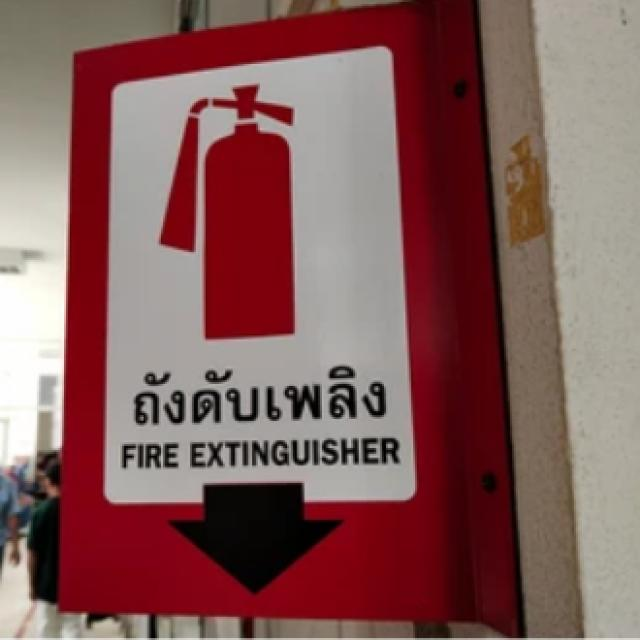fire signage: (73, 45, 491, 582)
